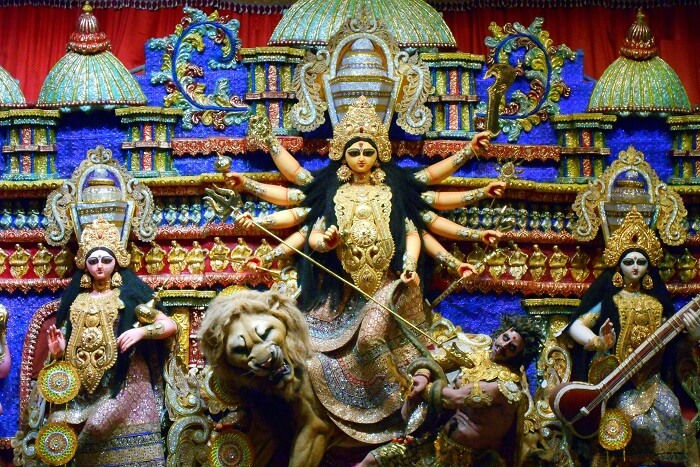Hindu Temple: (19, 22, 685, 437)
